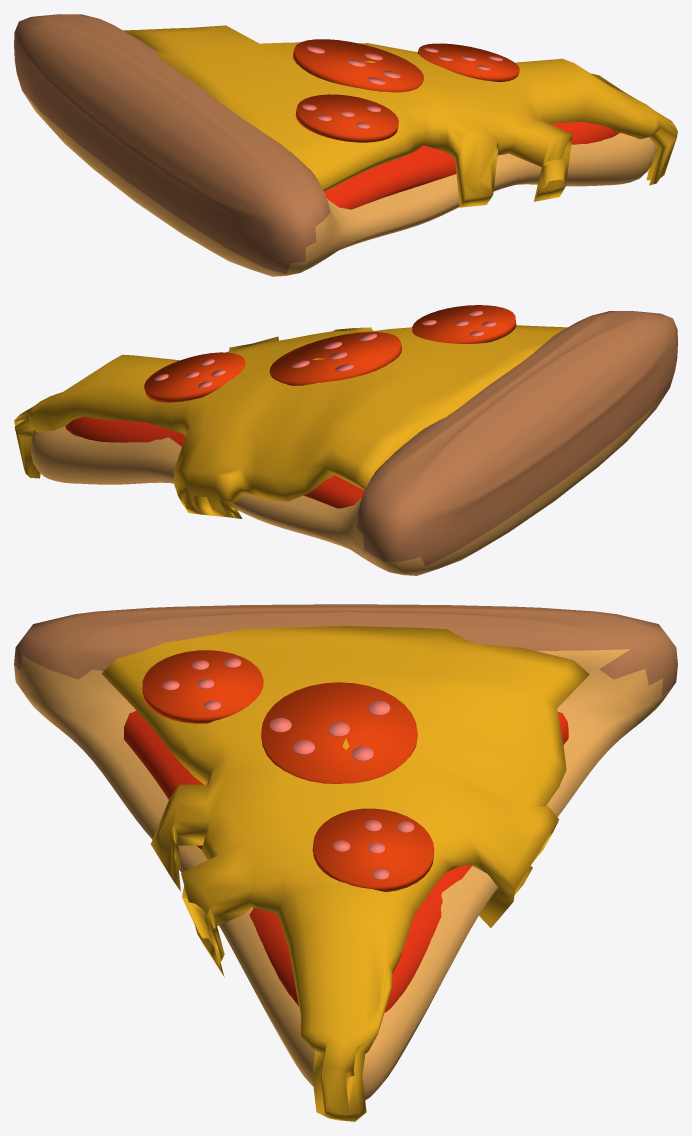
Rendered from Pizza.fbx.
3 views of the same model, one above another, from view 1: azimuth 30°, elevation 25°; view 2: azimuth 150°, elevation 25°; view 3: azimuth 270°, elevation 25° (orthographic). The views are drawn at different scales.
Visible parts, largest first — view 1: Circle.007; view 2: Circle.007; view 3: Circle.007.
Part boxes in pixels (x1=…): Circle.007: x1=14, y1=14, x2=677, y2=276; Circle.007: x1=14, y1=305, x2=677, y2=575; Circle.007: x1=14, y1=604, x2=677, y2=1121.
Size of the model in its own units: 206 by 74.79 by 186.
